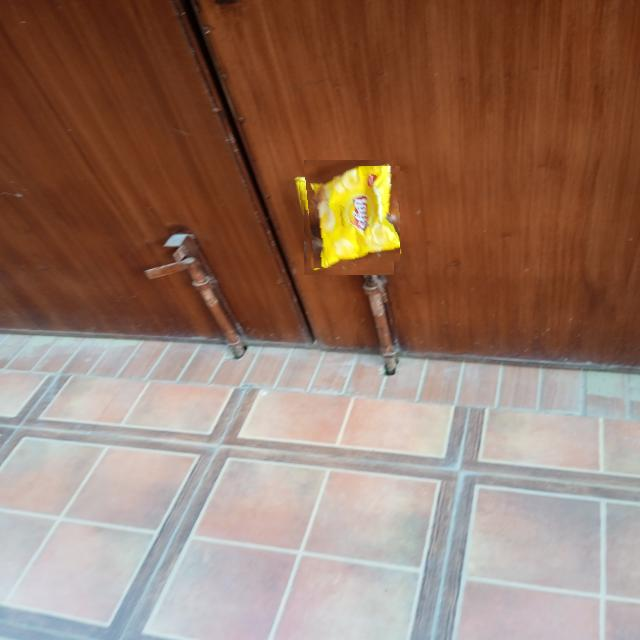Plastic: (297, 166, 400, 269)
